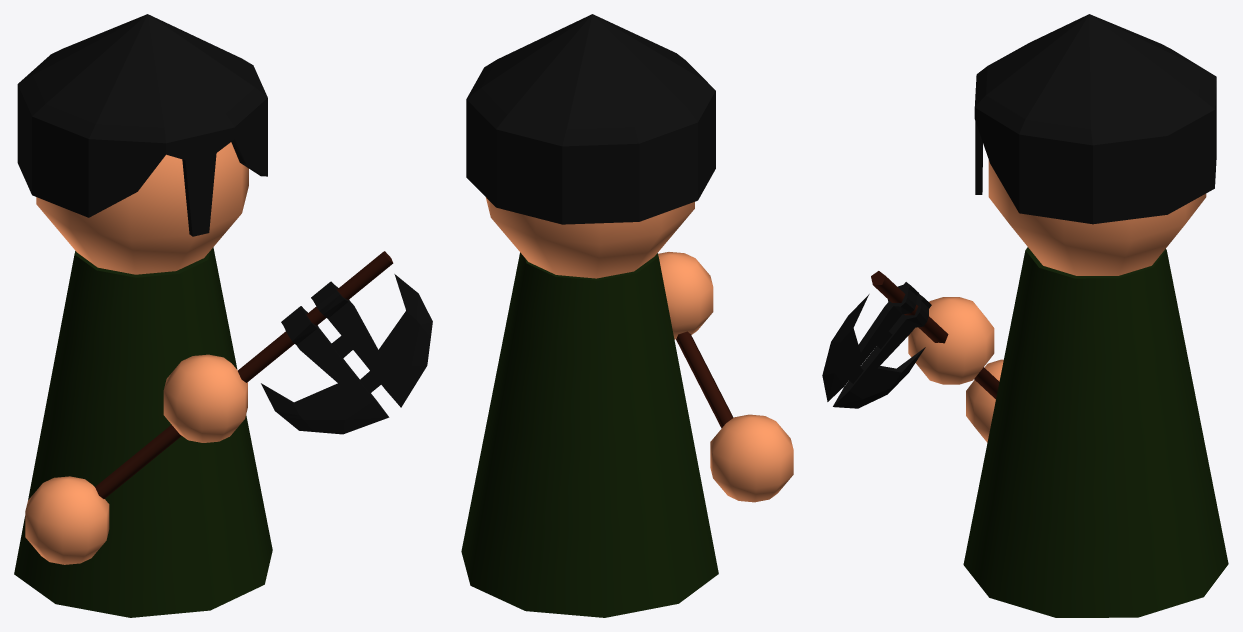
The model's file is MeleeGreen.FBX.
3 views of the same model, side by side, from view 1: azimuth 30°, elevation 25°; view 2: azimuth 150°, elevation 25°; view 3: azimuth 270°, elevation 25° (orthographic).
Visible parts, largest first — view 1: Cylinder002; view 2: Cylinder002; view 3: Cylinder002.
Part boxes in pixels (x1=…): Cylinder002: x1=14, y1=14, x2=432, y2=617; Cylinder002: x1=461, y1=14, x2=793, y2=617; Cylinder002: x1=822, y1=14, x2=1228, y2=617.
Size of the model in its own units: 49.56 by 55.81 by 83.52.
